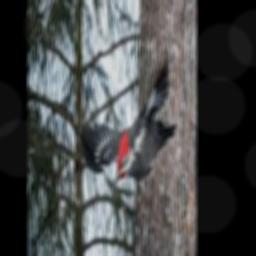Woodpecker: (77, 47, 176, 189)
